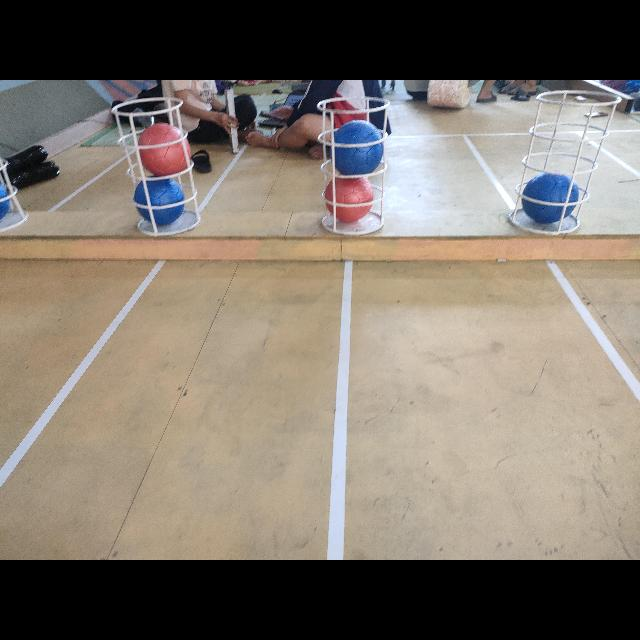B: (521, 170, 579, 223), (331, 120, 384, 176), (132, 174, 186, 226), (0, 178, 14, 222)
R: (140, 122, 192, 178), (326, 172, 374, 222)
